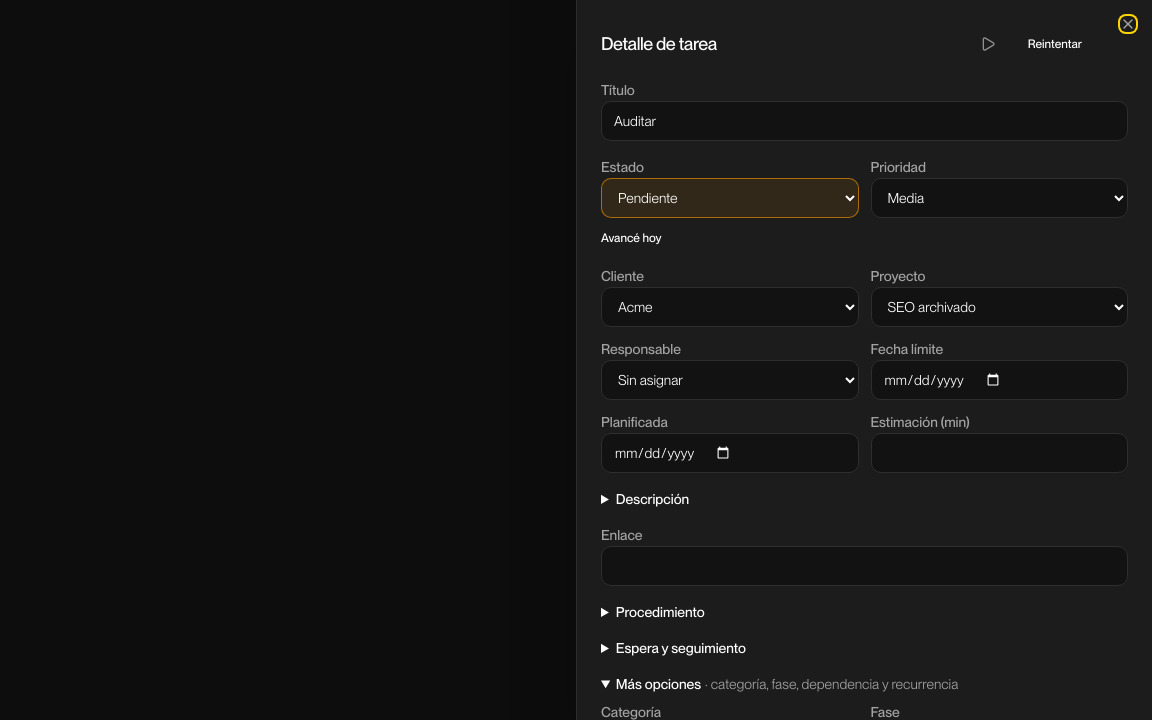
Test case: TaskPanel › requires complete wait details when entering a wait
The width and height of the screenshot is (1152, 720).
Check: the field showing "Auditar" is shown, box [601,101,1128,141]
Select "En espera" in the dropdown labelled "Estado" at (730, 198), box [601,178,858,218]
(page scrolled)
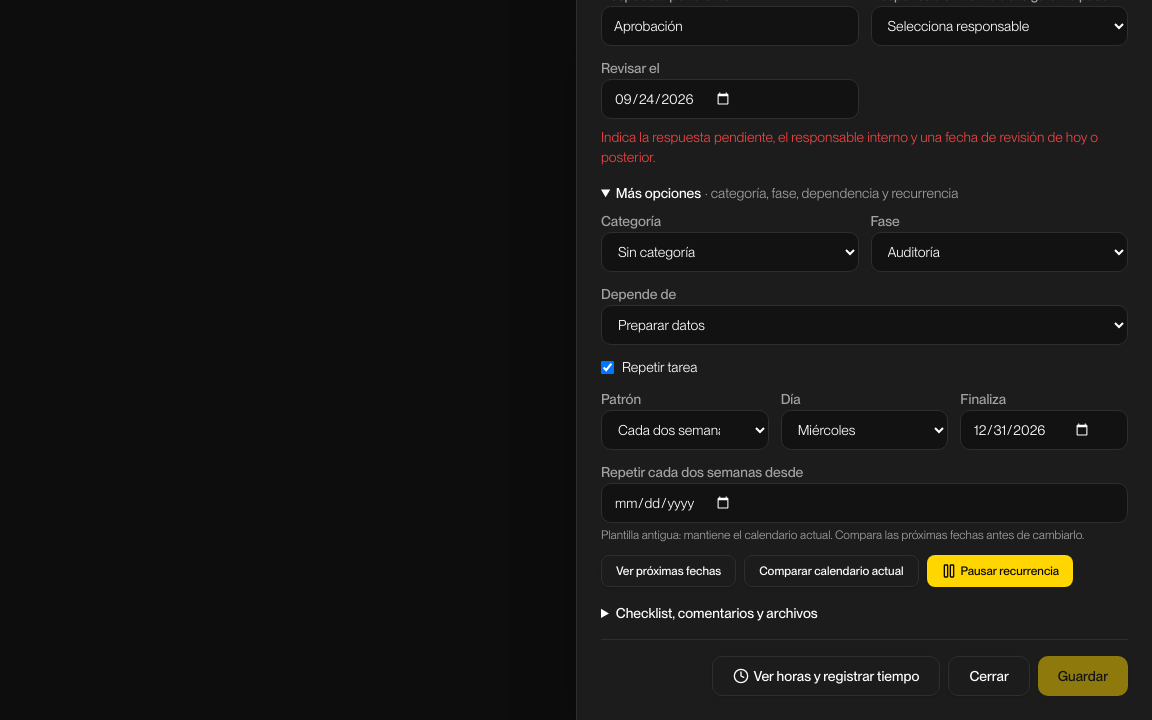
Check: the button "Guardar" is disabled, box [1038,656,1128,696]
